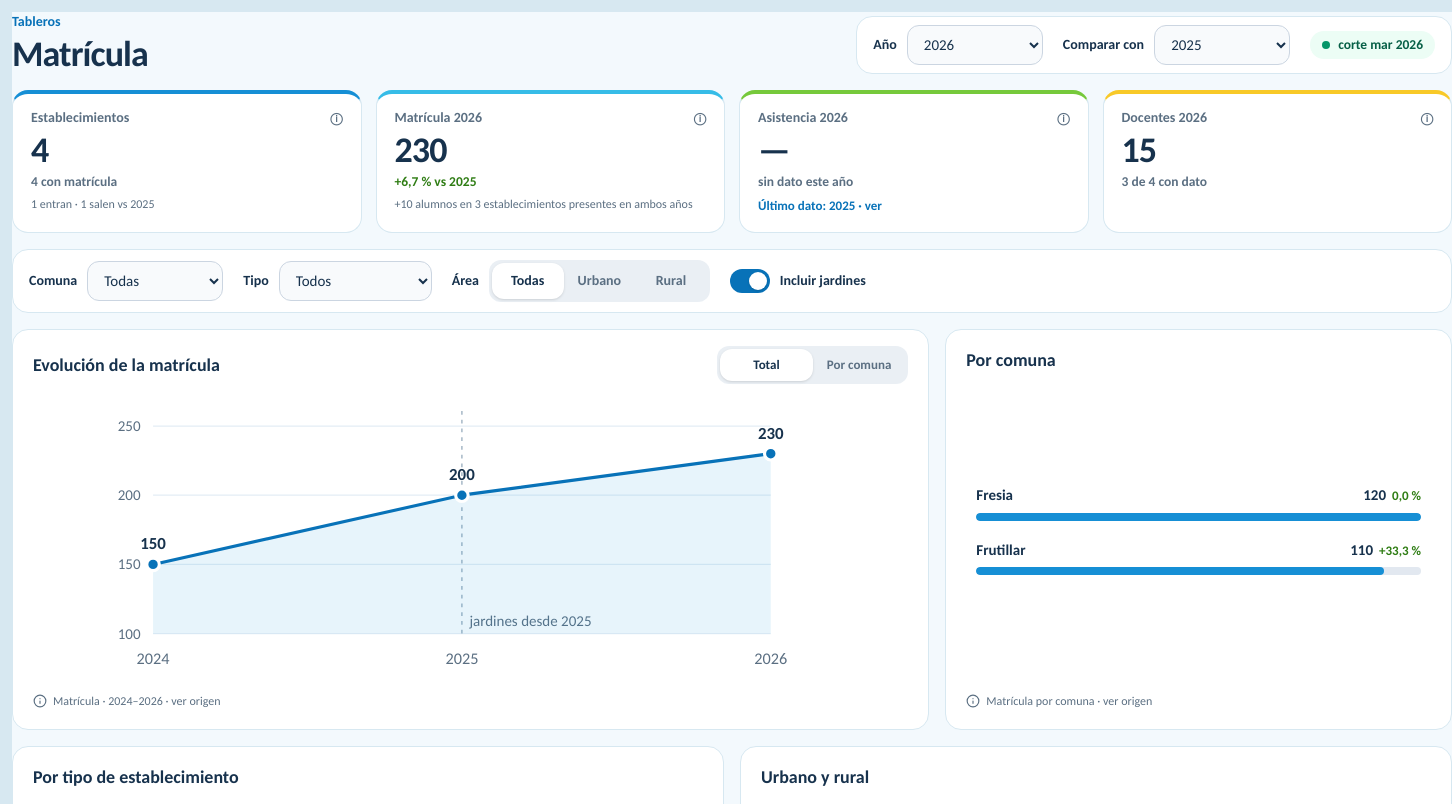
Test: FE24: tablero de matrícula › FE24-C: un gráfico filtra y «Limpiar filtros» restablece
Expected: the heading "Matrícula" is shown, [12,34,148,74]
Expected: the button "Limpiar filtros" is not shown
Click the button "Frutillar 110+33,3 %": click(1001, 550) [966,530,1431,583]
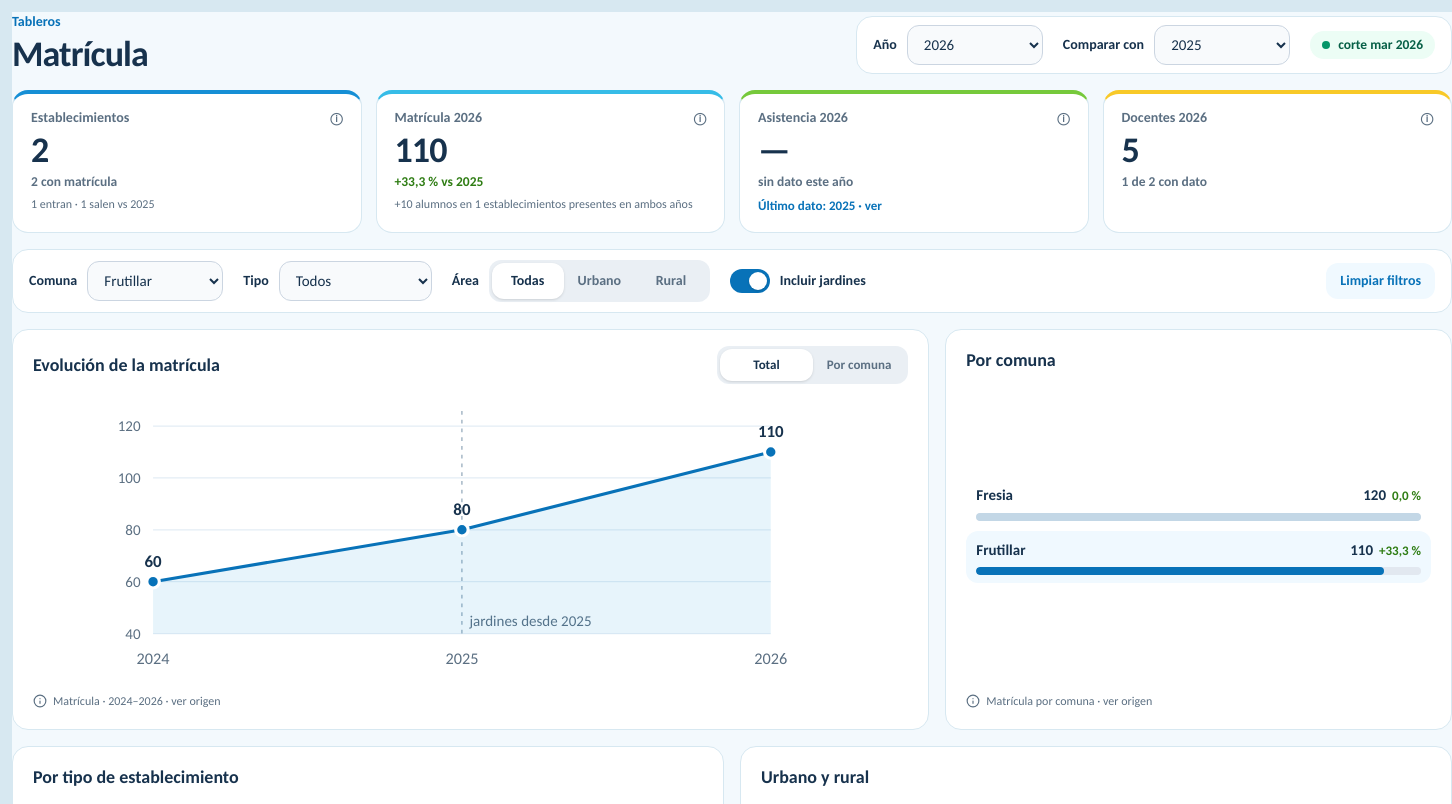
Expected: the dropdown labelled "Comuna" shows "Frutillar", [87,261,223,301]
Expected: the 1st text "110" is shown, [394,128,446,172]
Click the button "Limpiar filtros": click(1381, 281) [1326,263,1435,299]
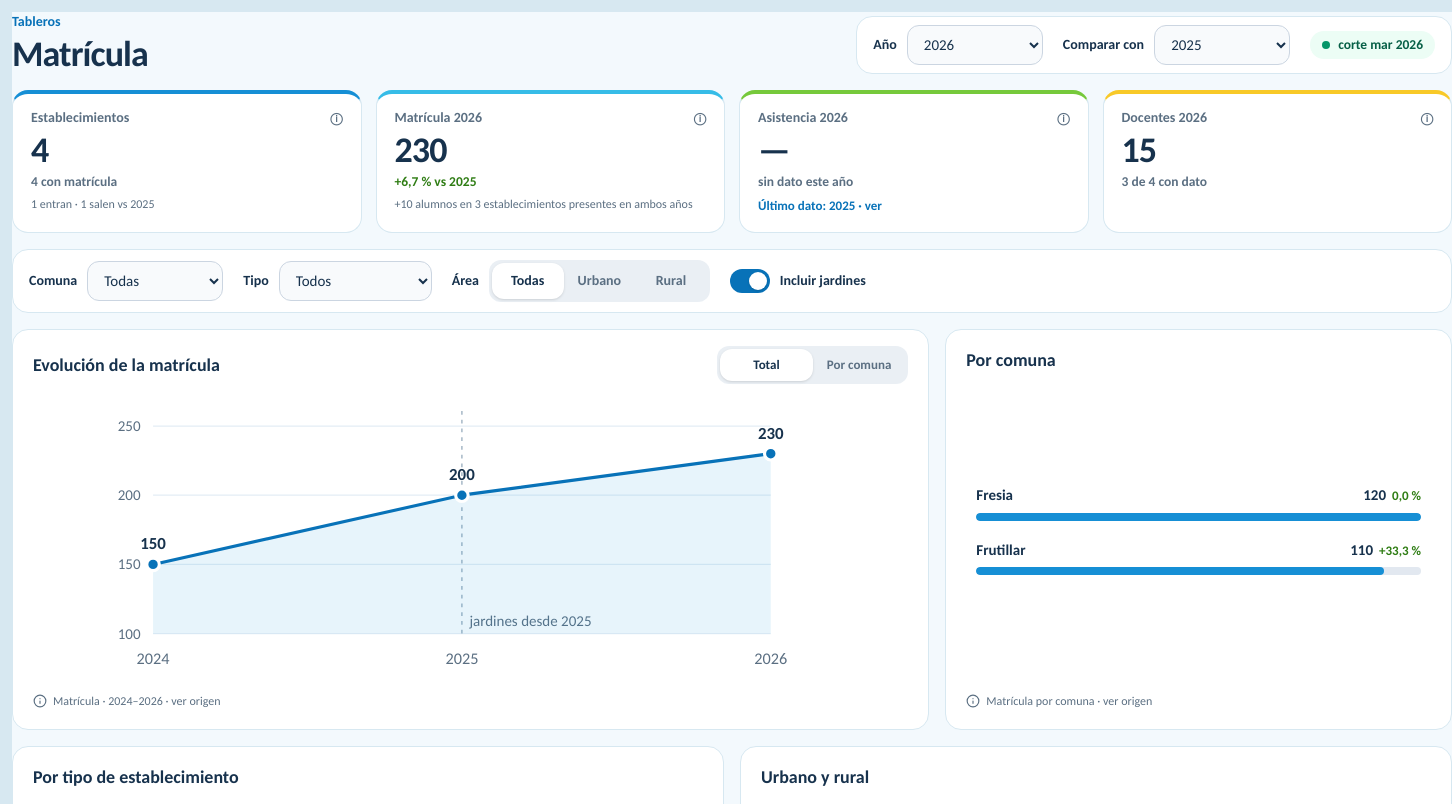
Expected: the text "230" is shown, [394,128,446,172]
